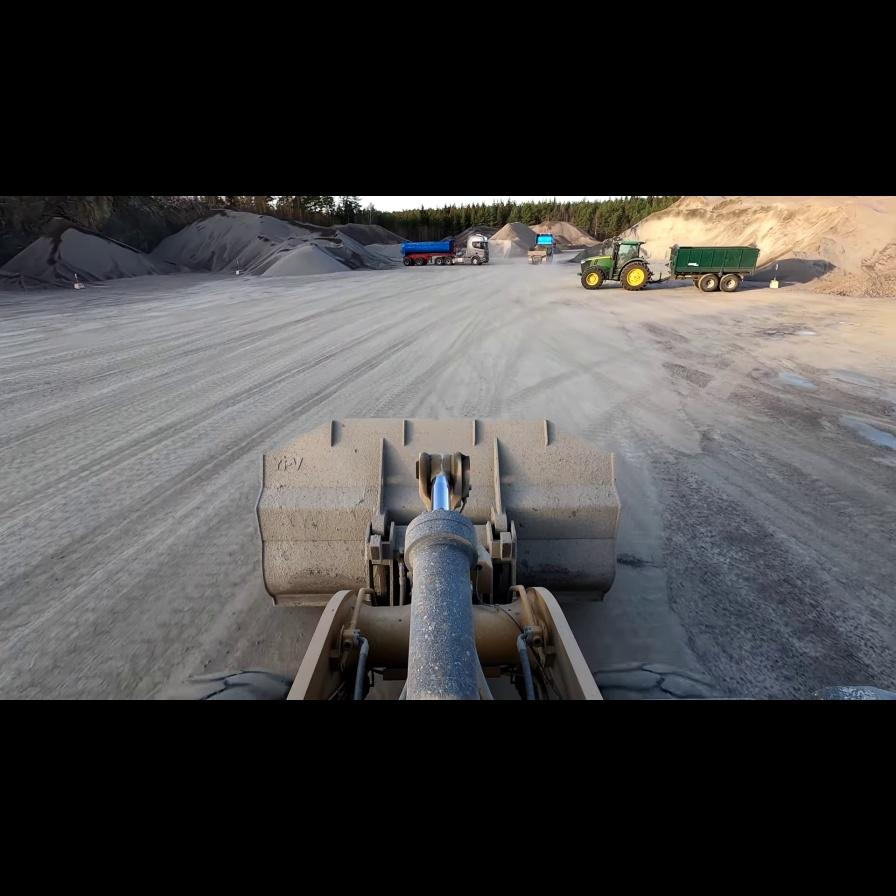anchor: (416, 451, 468, 512)
pile of gravel: (607, 195, 889, 292), (155, 209, 403, 277), (0, 222, 166, 288), (481, 222, 539, 259), (528, 220, 598, 250)
